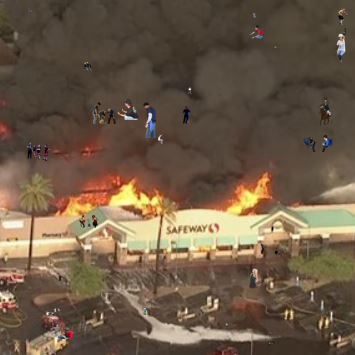Human: (248, 261, 267, 289), (92, 102, 116, 124), (48, 318, 73, 339), (318, 95, 334, 127), (303, 135, 333, 152), (188, 84, 224, 98), (143, 102, 157, 138), (247, 243, 282, 257), (333, 27, 347, 62), (117, 99, 139, 120), (27, 142, 50, 161), (79, 215, 99, 228), (248, 25, 265, 39), (338, 8, 348, 26), (182, 106, 191, 124), (46, 308, 61, 317), (83, 62, 92, 72), (158, 134, 163, 144), (143, 307, 147, 315), (271, 225, 274, 233), (253, 12, 256, 19), (27, 8, 32, 12), (102, 278, 107, 282), (225, 323, 229, 328), (268, 342, 274, 345), (59, 275, 62, 281), (274, 45, 277, 51)
